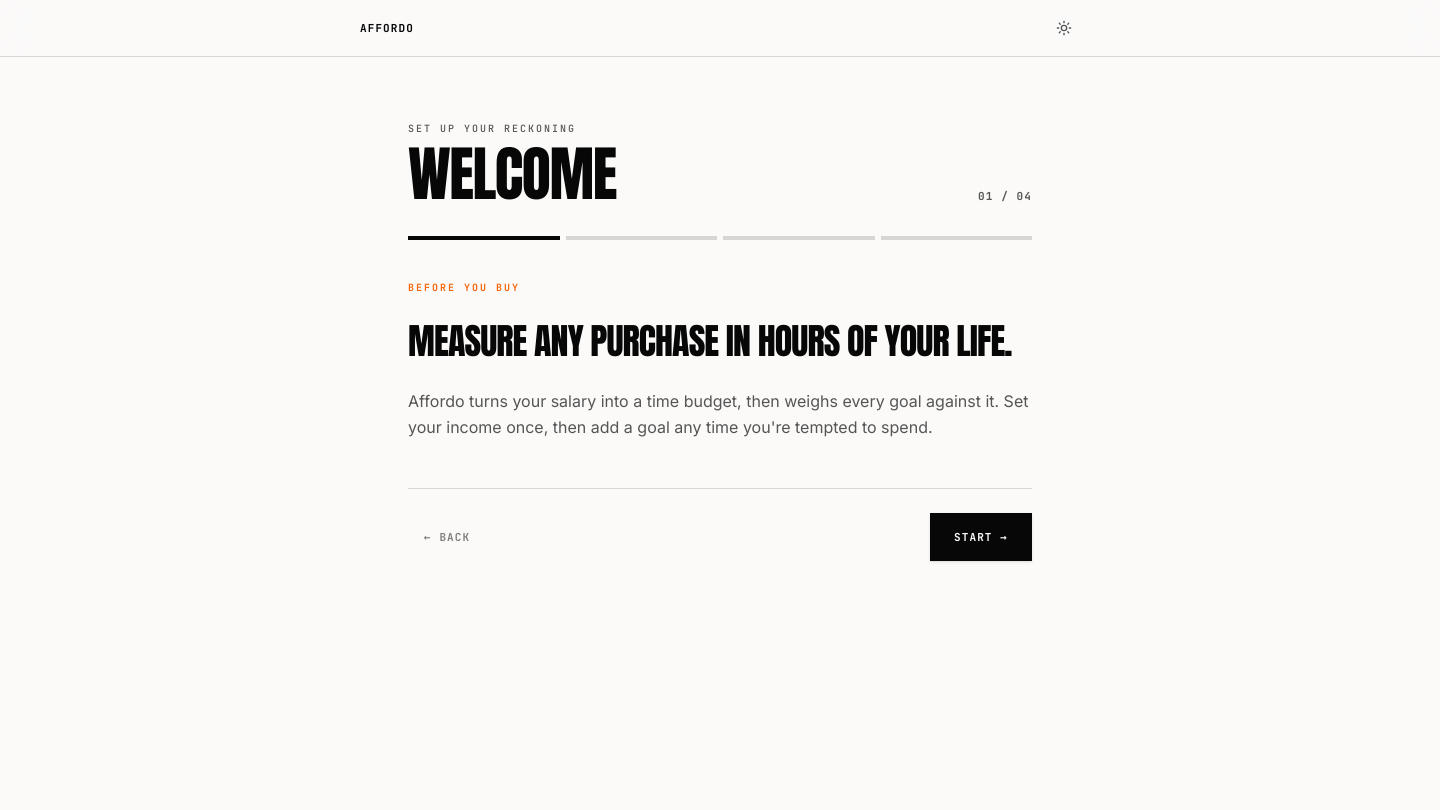
OnboardingWizard — Back control › becomes enabled off step 0 and reverses the step state
Click the button "Start →": (981, 537) [930,513,1032,561]
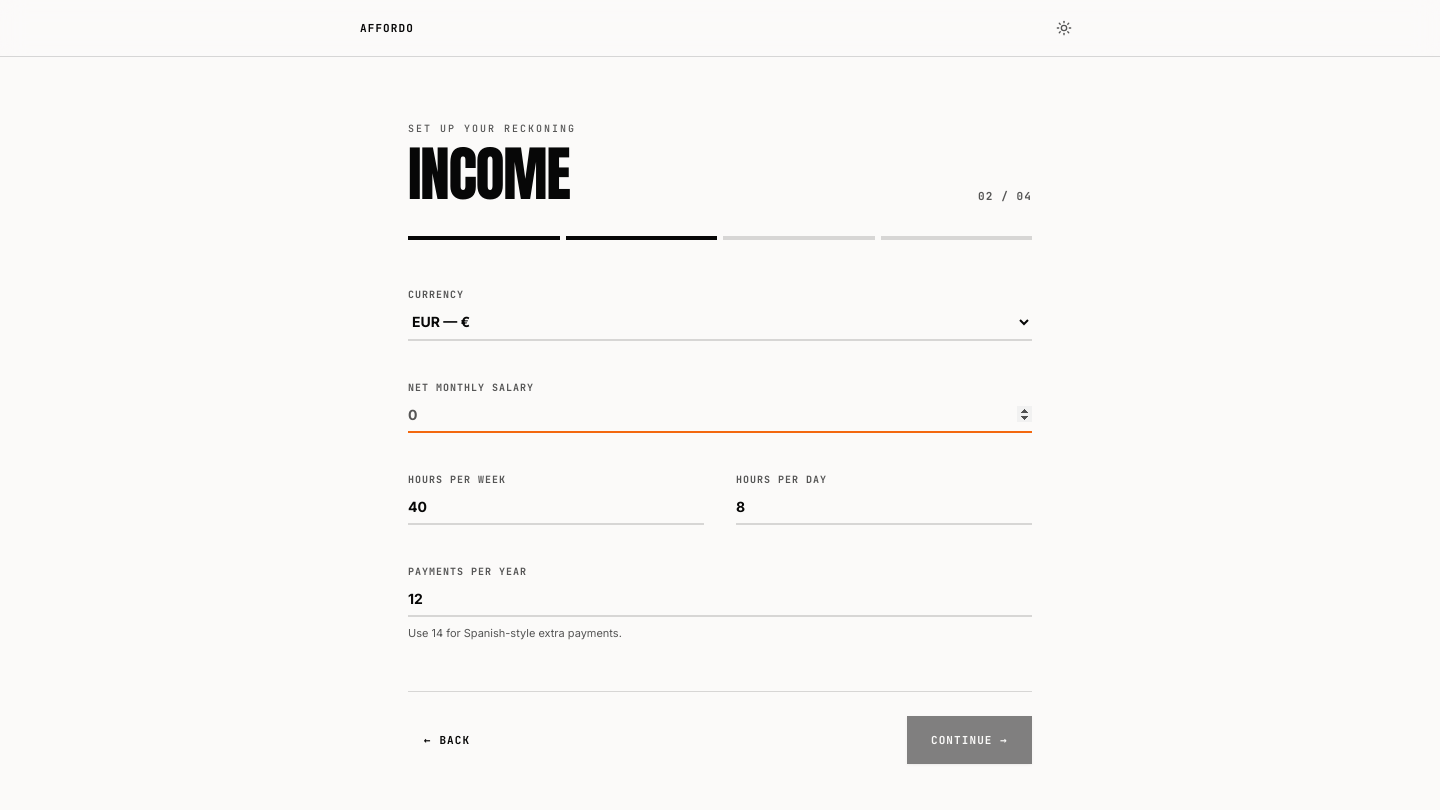
Now the text "02 / 04" is shown, box [978,188,1032,204]
Now the button "← Back" is enabled
Click the button "← Back": (447, 740) [408,722,486,758]
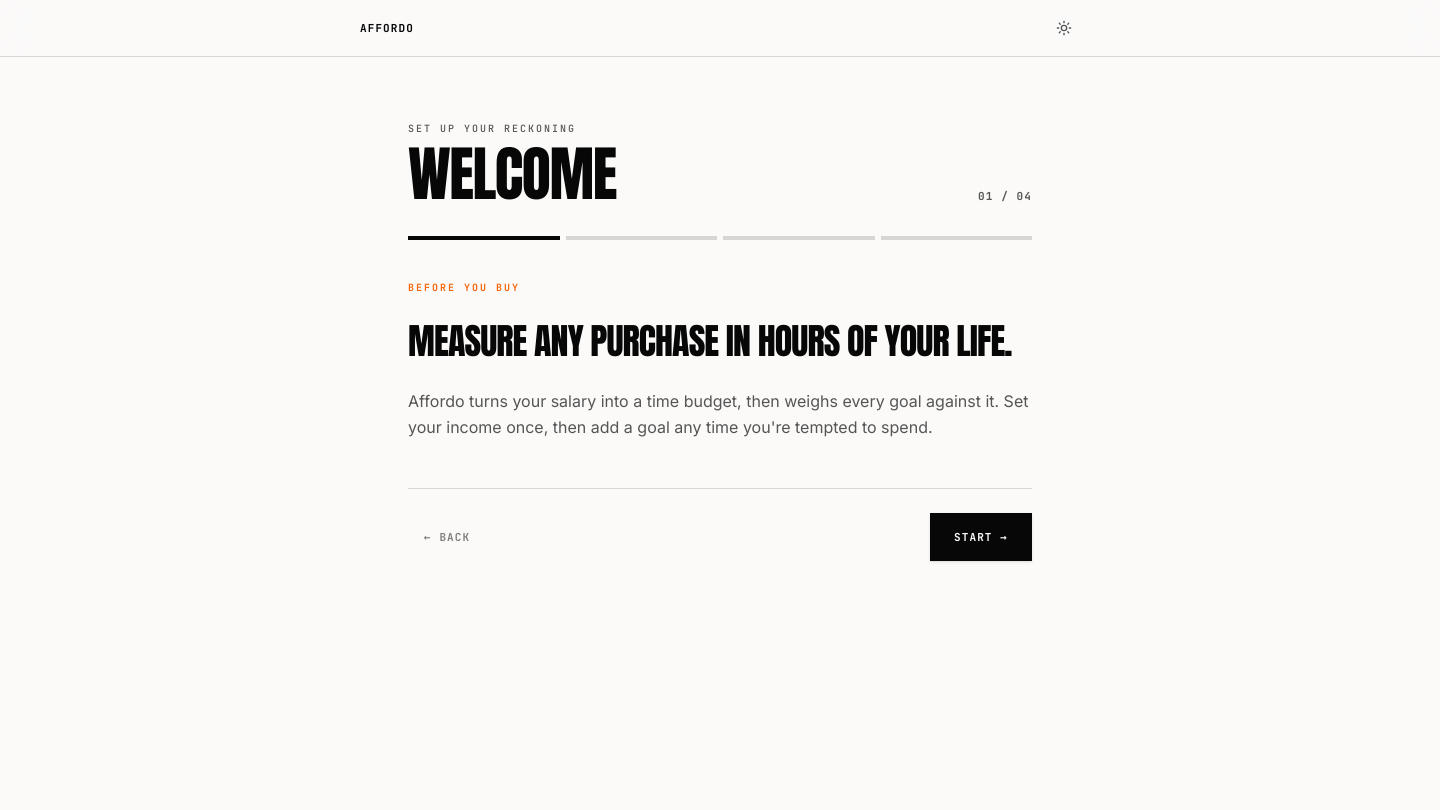
Now the text "01 / 04" is shown, box [978,188,1032,204]
Now the button "Start →" is shown, box [930,513,1032,561]
